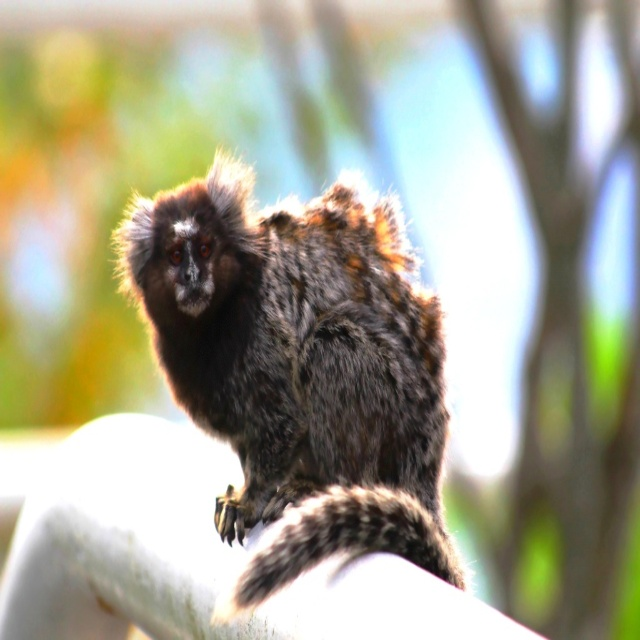Monkey: (107, 145, 482, 632)
